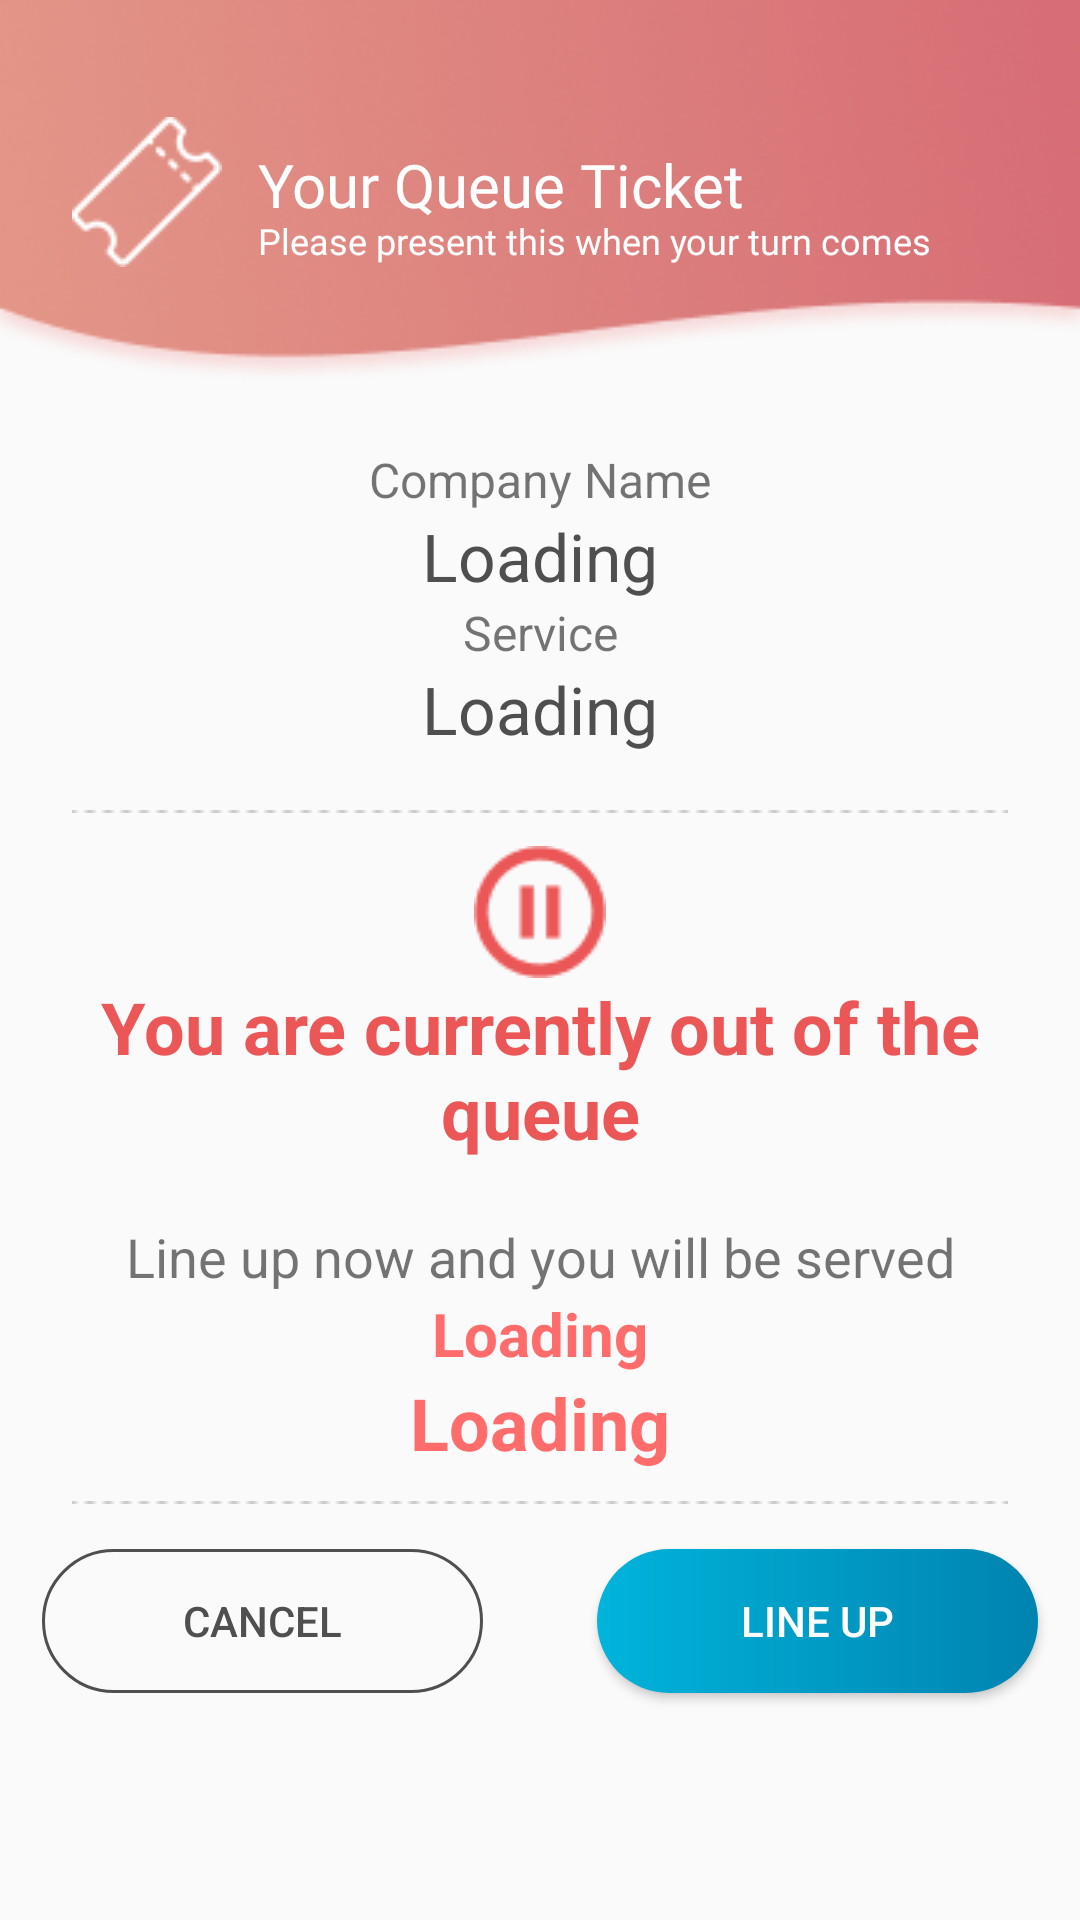

Point at icon controls on the screen. Image size 1080x1920, points as (x,y).
pause: (540,912)
